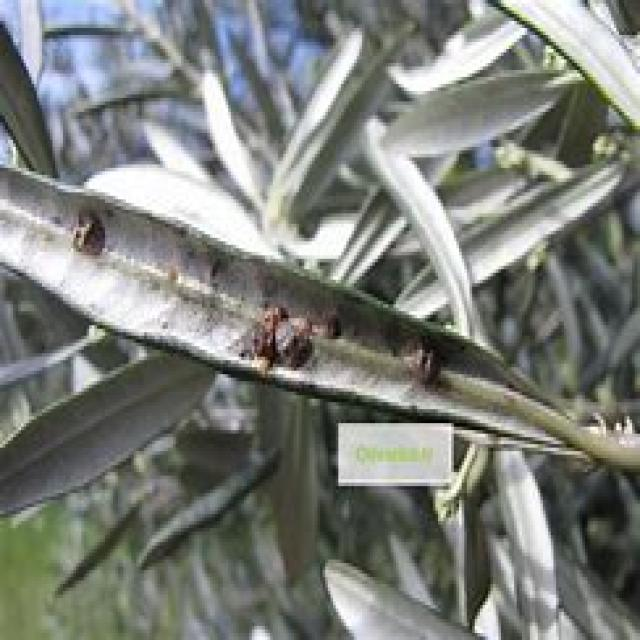BlackScale: (236, 306, 320, 373), (407, 339, 444, 384), (70, 213, 100, 252)
